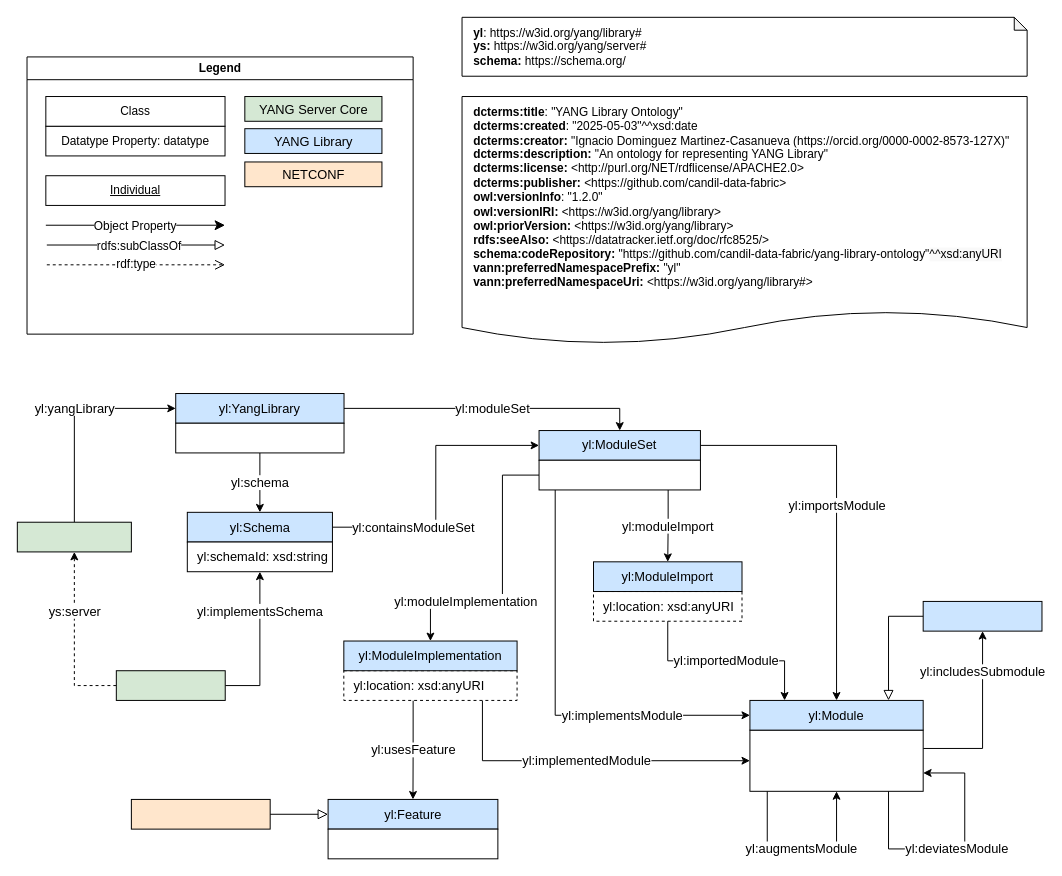
Image size: 1062x876. Some labels were removed from this diagram. Each missing label, with the centre of its shape:
yl:featureName: xsd:string: [412,843]
yl:moduleName: xsd:string yl:revisionDate: xsd:date yl:namespace: xsd:anyURI: [836,760]
yl:moduleSetId: xsd:string: [619,474]
yl:Submodule: [982,615]
yl:yangLibraryId: xsd:string: [259,437]
ys:Datastore: [170,685]
ys:NetconfCapability: [200,813]
ys:YangServer: [73,536]
